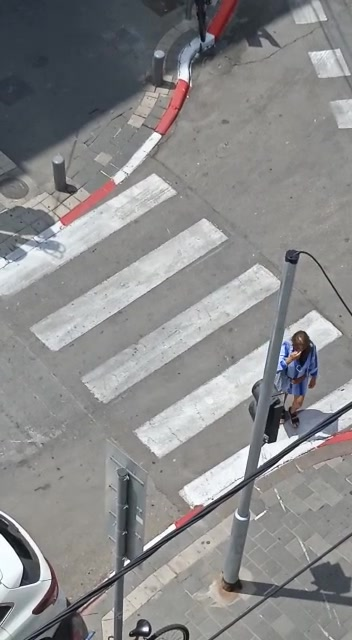crosswalk: (5, 192, 333, 479)
person: (272, 321, 326, 438)
